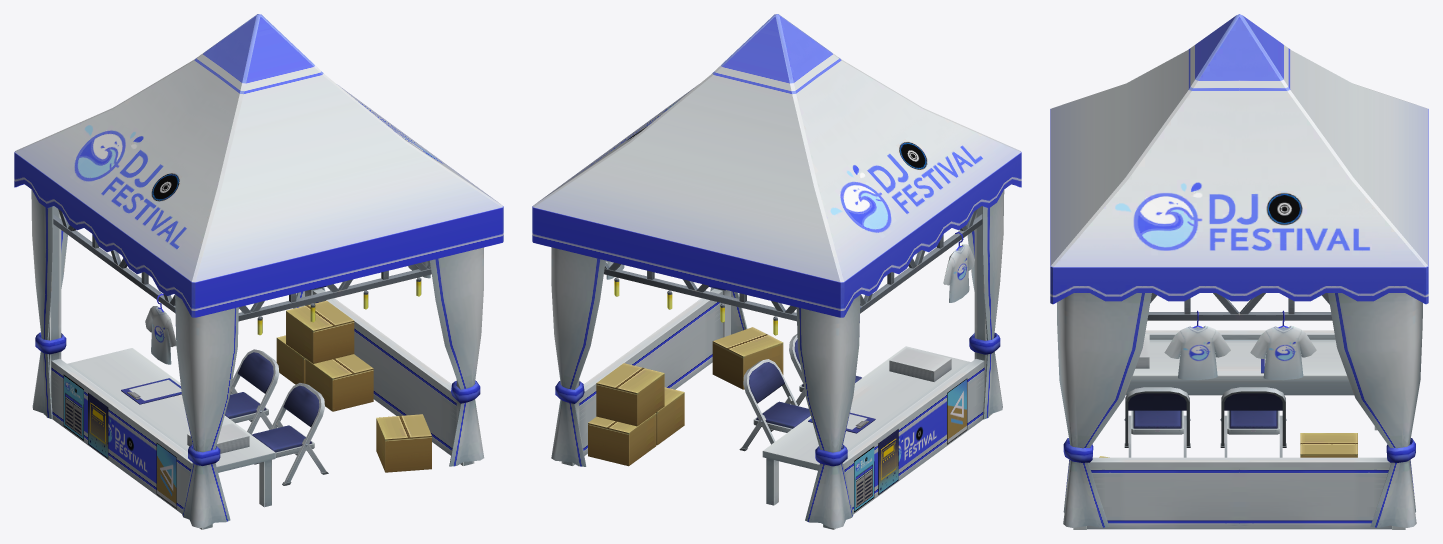
Rendered from my_ariussummer_01_booth_01.glb.
3 renders of one model, left to right at view 1: azimuth 30°, elevation 25°; view 2: azimuth 150°, elevation 25°; view 3: azimuth 270°, elevation 25°, orthographic. The views are drawn at different scales.
Parts seen in each view (by area): view 1: my_ariussummer_01_booth_01; view 2: my_ariussummer_01_booth_01; view 3: my_ariussummer_01_booth_01.
Part boxes in pixels (<box>): my_ariussummer_01_booth_01: <box>14,14,503,529</box>; my_ariussummer_01_booth_01: <box>532,14,1021,529</box>; my_ariussummer_01_booth_01: <box>1050,14,1428,529</box>.
Bounding box in the file's own units: 0.023 × 0.0299 × 0.023.
Materials: 1 (1 with a texture image).
